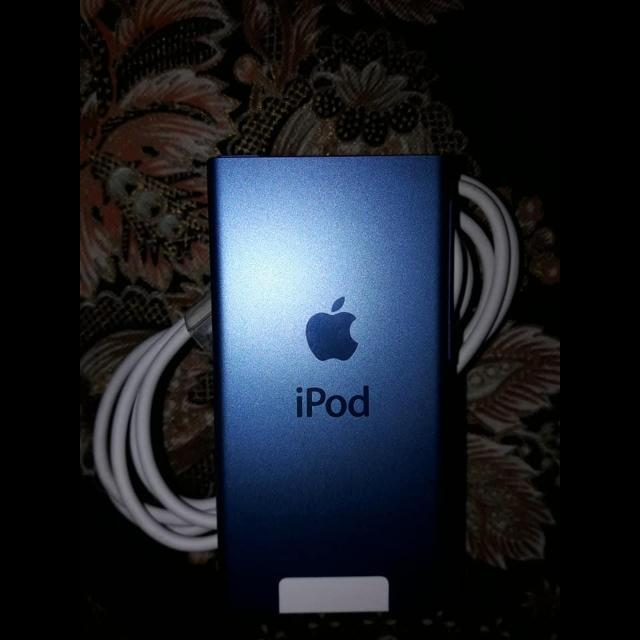Music-Player: (208, 142, 452, 638)
